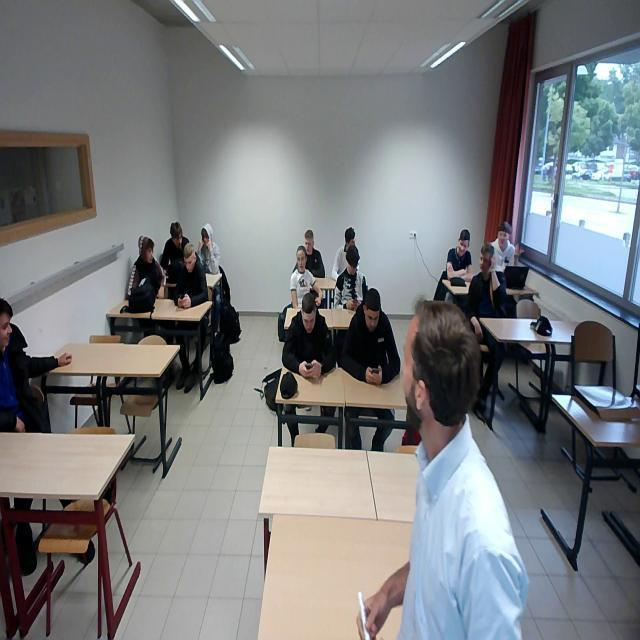Looking away: (480, 253, 489, 273), (145, 245, 153, 263), (305, 239, 312, 254), (349, 239, 357, 249), (175, 237, 182, 248)
Looking forward: (297, 253, 306, 270), (498, 232, 508, 247), (459, 240, 467, 256)
Phone use: (346, 286, 400, 384), (284, 296, 336, 378), (334, 247, 372, 313), (174, 242, 208, 310)
Turning around: (0, 293, 73, 434)
